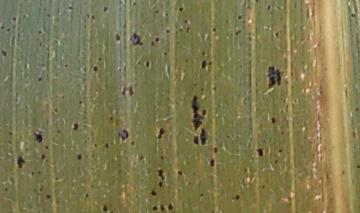tarspot: (190, 94, 207, 132), (265, 64, 283, 90), (128, 31, 144, 47), (30, 131, 43, 144), (118, 128, 129, 143), (199, 127, 207, 146), (16, 154, 25, 169), (156, 168, 166, 181), (156, 126, 164, 141), (120, 86, 129, 97), (127, 85, 135, 96), (256, 147, 264, 157), (211, 145, 219, 155), (167, 202, 174, 213), (192, 134, 199, 145), (200, 59, 207, 70), (114, 31, 121, 42), (71, 122, 80, 130), (151, 204, 159, 213), (91, 64, 99, 73), (103, 141, 111, 150), (159, 203, 166, 213), (209, 158, 216, 168), (273, 157, 280, 167), (101, 204, 109, 212), (107, 115, 115, 123), (183, 56, 191, 64), (161, 50, 169, 58), (42, 143, 50, 151), (149, 190, 158, 197), (175, 169, 184, 176), (144, 59, 151, 68), (37, 75, 44, 84), (184, 25, 191, 34), (52, 106, 59, 115), (351, 128, 357, 138), (44, 193, 52, 200), (1, 49, 8, 57), (102, 5, 109, 13), (200, 49, 207, 57), (62, 62, 70, 69), (10, 15, 18, 22), (89, 13, 96, 21), (45, 11, 52, 19), (234, 29, 241, 37), (162, 11, 169, 19), (270, 115, 276, 124), (138, 152, 144, 161), (83, 192, 90, 199), (177, 6, 184, 13), (350, 12, 357, 19), (153, 35, 160, 42), (131, 1, 138, 8), (210, 85, 217, 92), (2, 186, 9, 193), (157, 180, 163, 188), (234, 193, 240, 201), (159, 153, 165, 161), (130, 139, 136, 147), (354, 106, 360, 114), (149, 39, 155, 47), (164, 27, 170, 35), (183, 17, 189, 25), (36, 28, 44, 34), (266, 3, 271, 12), (355, 162, 360, 171), (76, 153, 82, 160), (39, 153, 45, 160), (236, 14, 242, 21), (273, 31, 279, 38), (279, 129, 285, 136), (153, 8, 159, 15), (66, 5, 73, 11), (97, 55, 103, 62), (198, 191, 205, 197), (199, 86, 205, 93), (29, 169, 35, 176), (35, 169, 41, 176), (207, 60, 213, 66), (77, 99, 83, 105), (211, 26, 217, 32), (277, 147, 283, 153), (5, 27, 11, 33), (7, 130, 13, 136), (55, 128, 61, 134), (177, 27, 183, 33), (224, 134, 231, 139), (1, 24, 6, 30), (253, 1, 260, 4)
